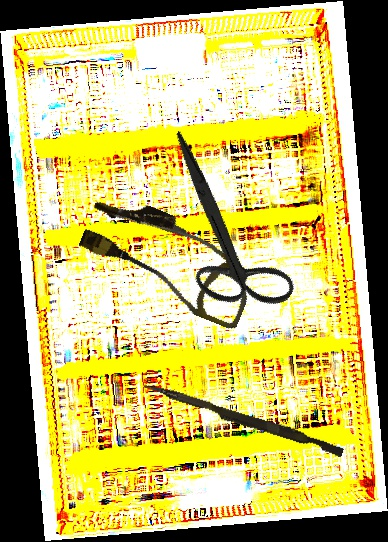Cannula: (70, 186, 267, 332)
Iris Scissors: (112, 130, 334, 333)
Pusher: (140, 381, 346, 458)
